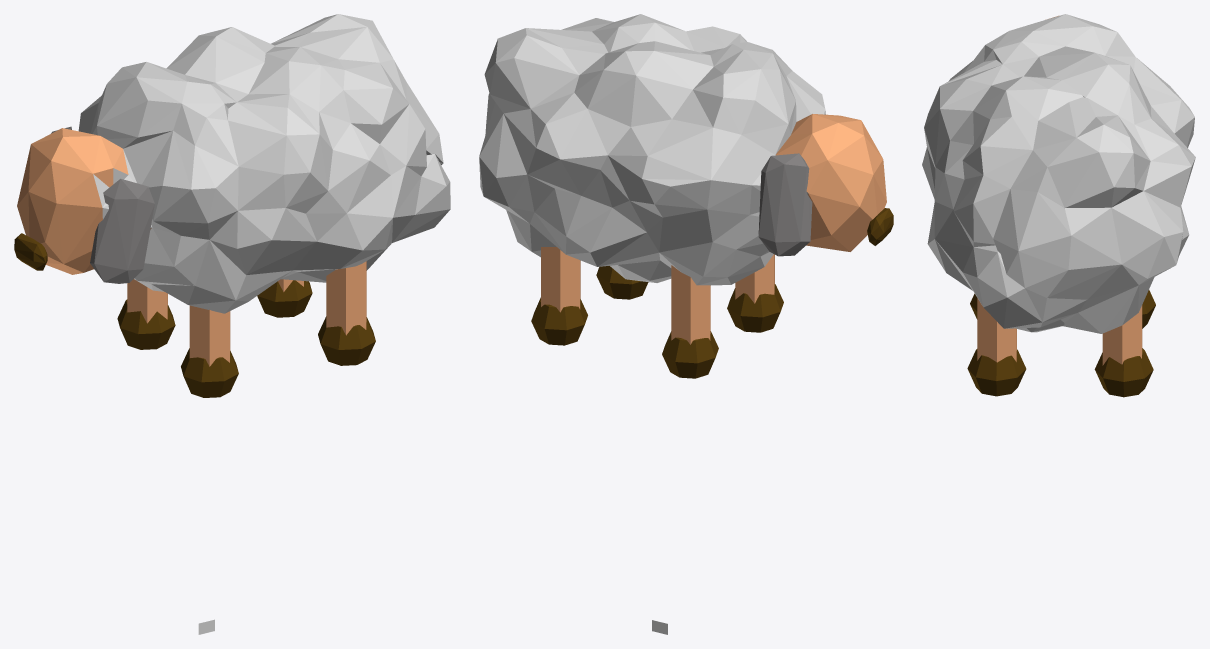
The model's file is biiiteeee.fbx.
3 renders of one model, left to right at view 1: azimuth 30°, elevation 25°; view 2: azimuth 150°, elevation 25°; view 3: azimuth 270°, elevation 25°, orthographic. The views are drawn at different scales.
Parts seen in each view (by area): view 1: schaf; view 2: schaf; view 3: schaf.
Part boxes in pixels (x1,y1,x2,y2): schaf: (14, 14, 450, 397); schaf: (479, 14, 893, 378); schaf: (922, 14, 1195, 397).
Size of the model in its own units: 371 by 517 by 220.
